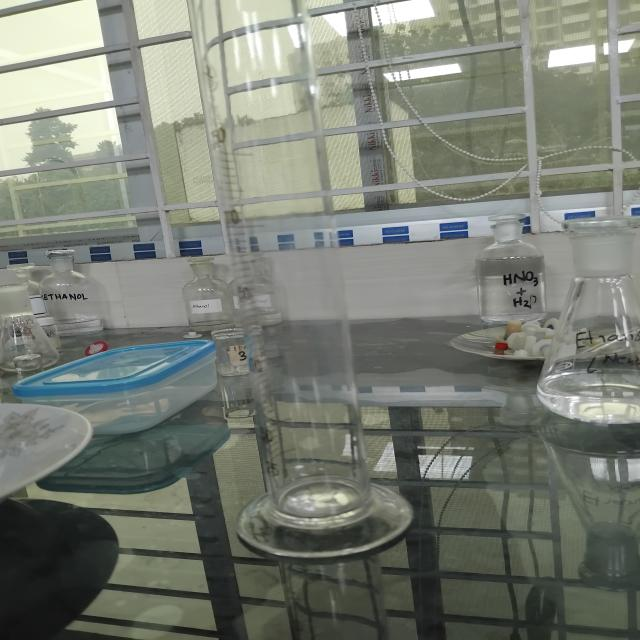Measuring_Cylinder: (176, 0, 450, 574)
